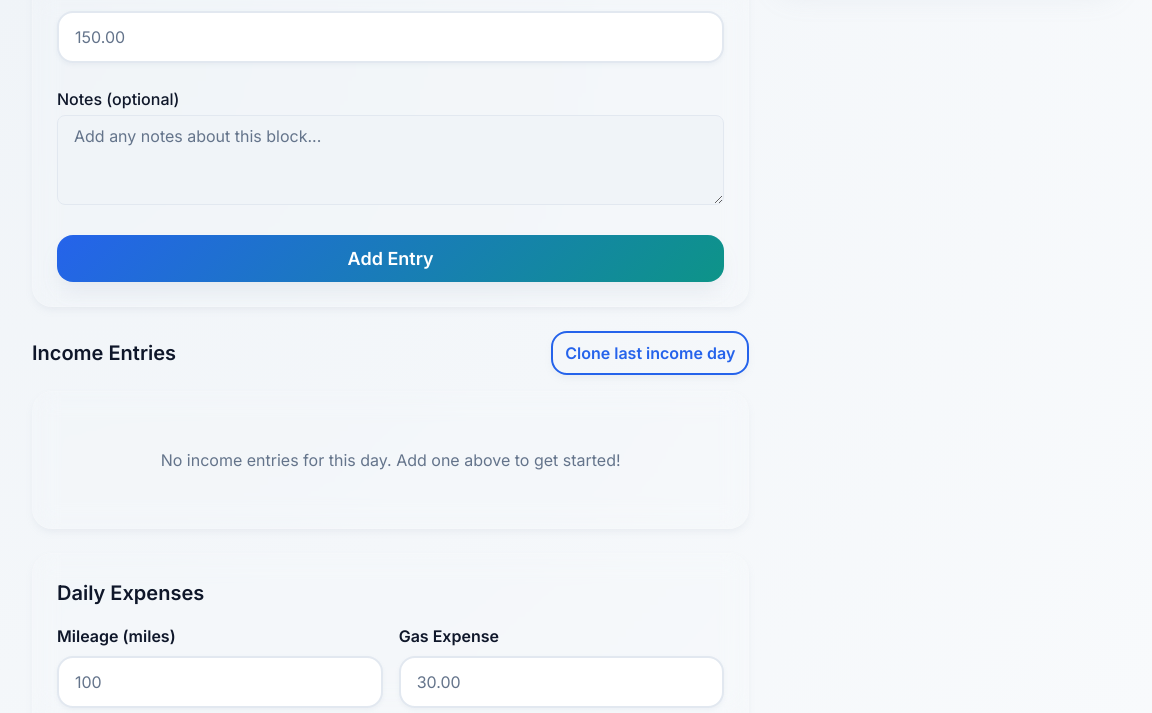
Test: DayContent clone flow › opens clone modal and clones entries
(page scrolled)
Click the button "Clone last income day".
click(650, 353)  # box [551,331,749,375]
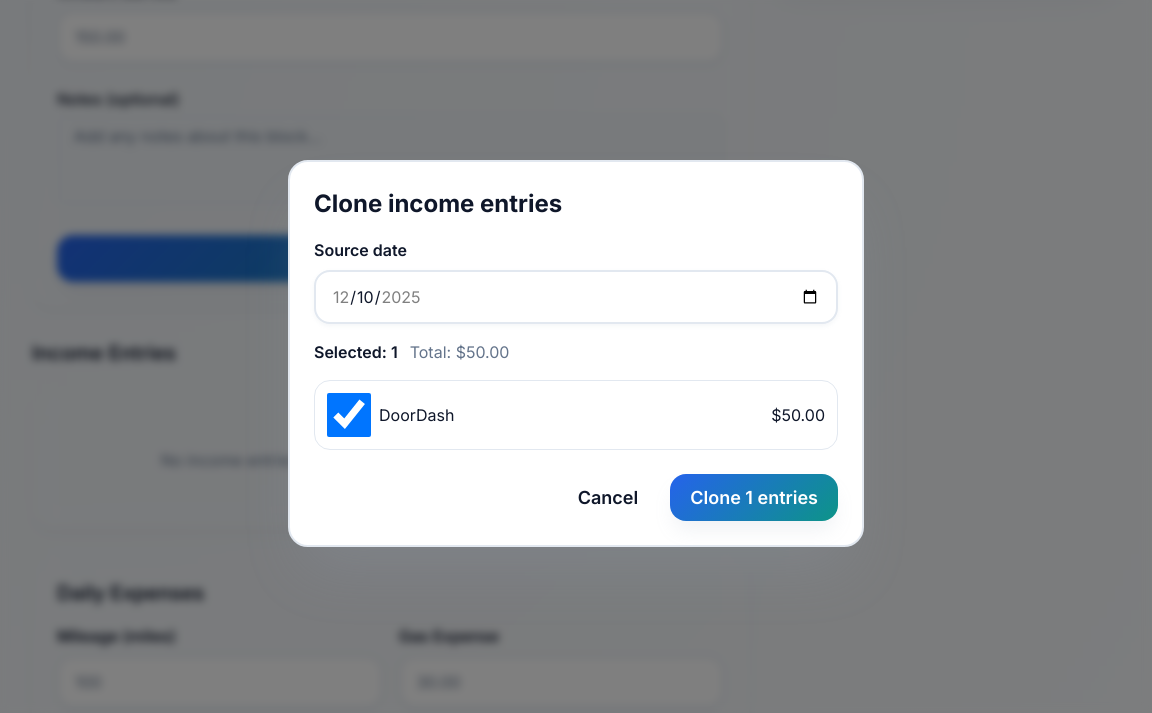
Click the button "Clone 1 entries".
click(754, 497)  # box [670,474,838,520]
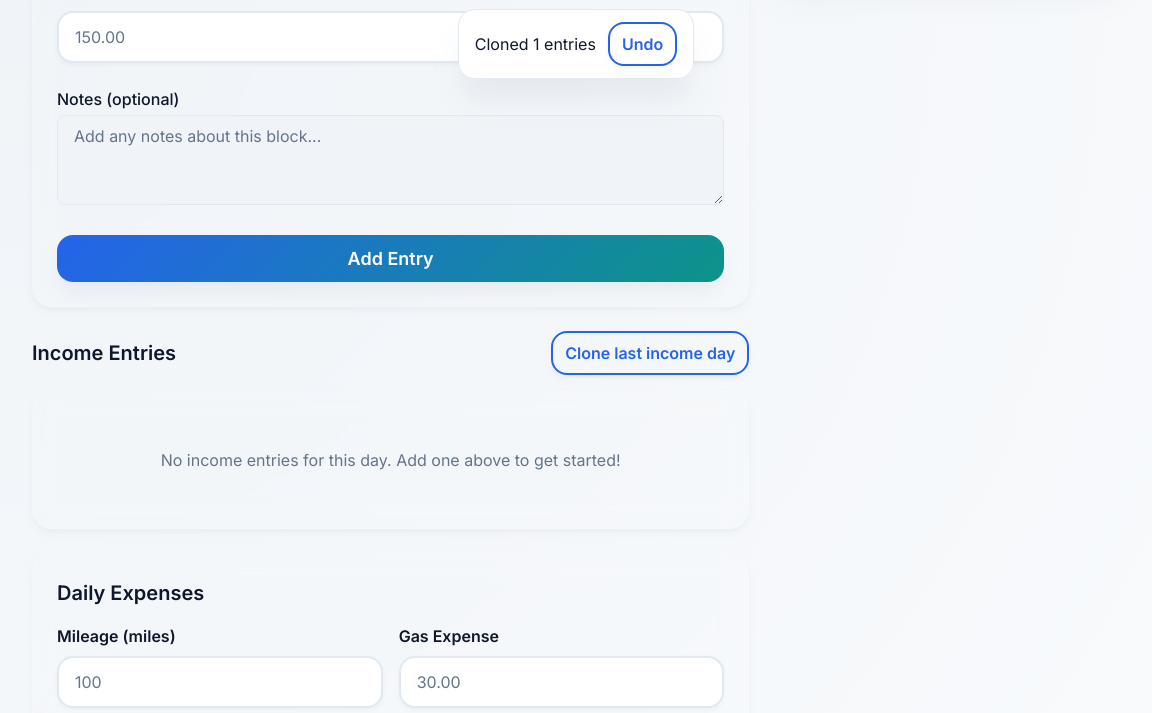
expect the text "Cloned 1 entries" is shown: met, box [475,32,596,56]
